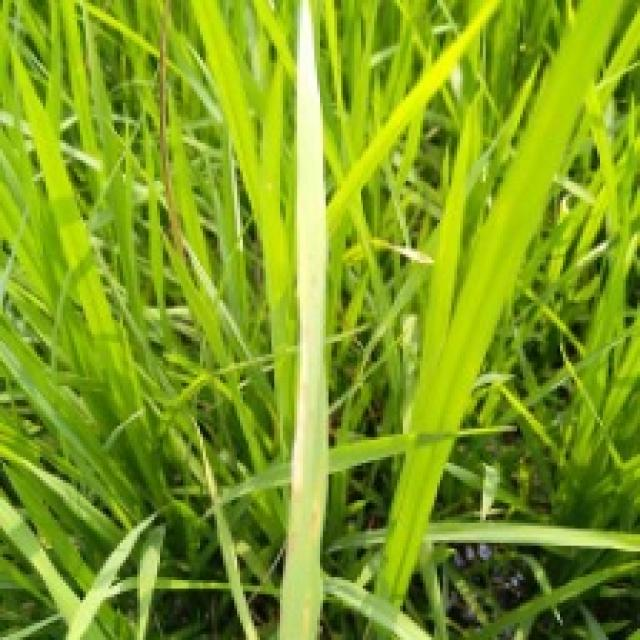Rice___Bacterial_Leaf_Blight: (275, 0, 331, 637)
